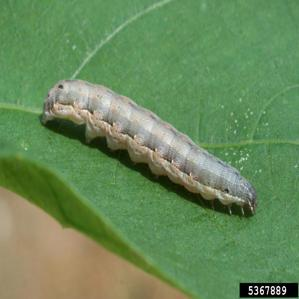Beet armyworm: (31, 59, 272, 251)
